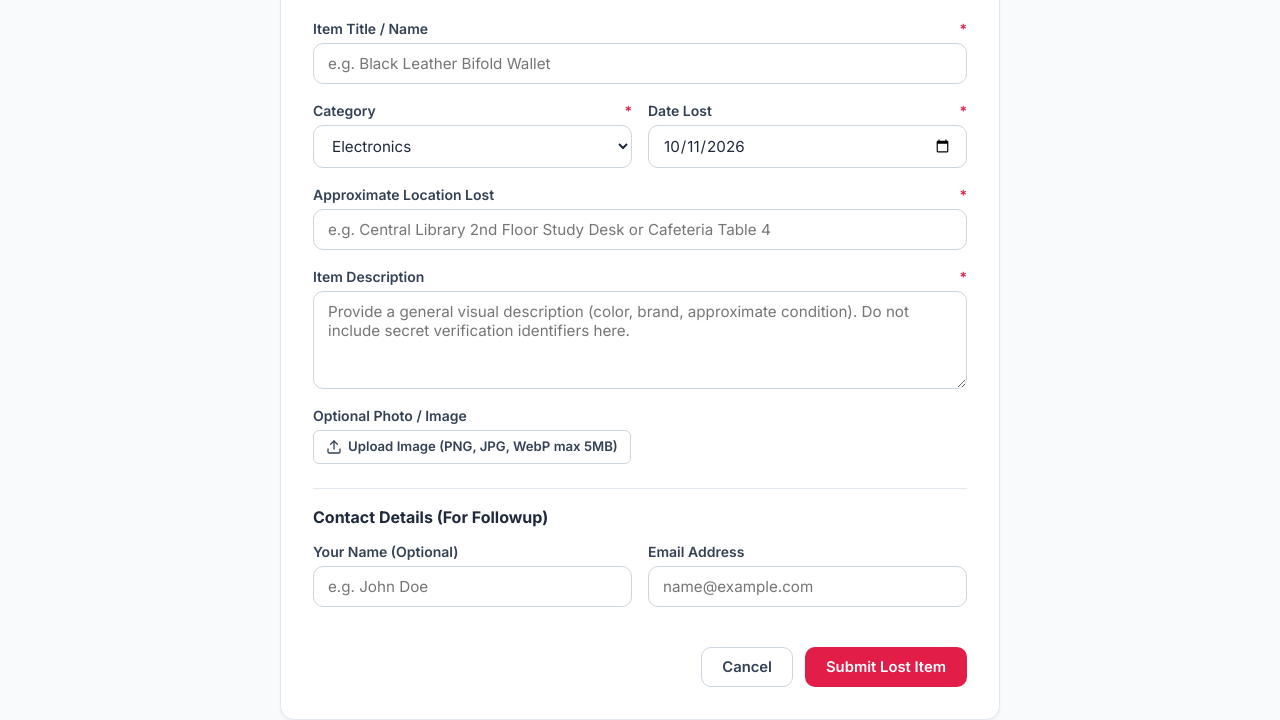
Test: ReportItemPage Component › shows validation errors when submitting with empty required fields
This screenshot has width=1280, height=720.
(page scrolled)
Click the button "Submit Lost Item": [886, 667] box [805,647,967,687]
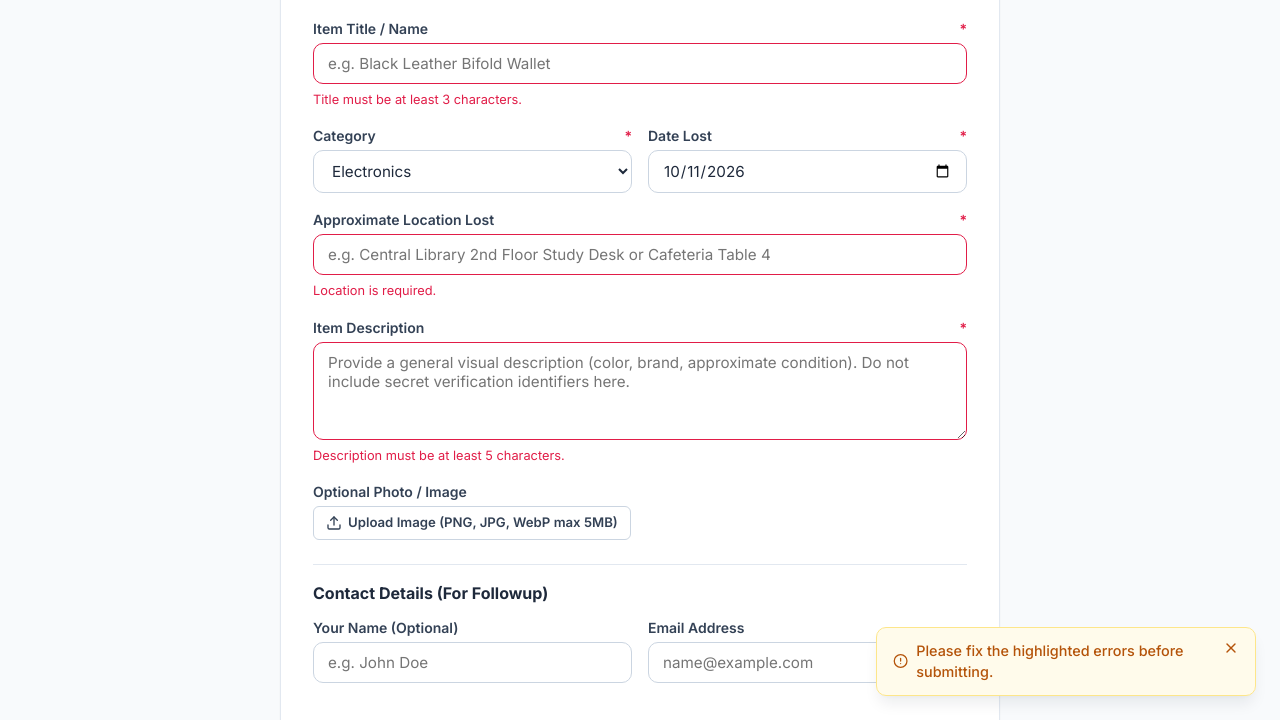
expect the text "Title must be at least 3 characters." is shown: met, box [313,92,522,107]
expect the text "Location is required." is shown: met, box [313,283,436,298]
